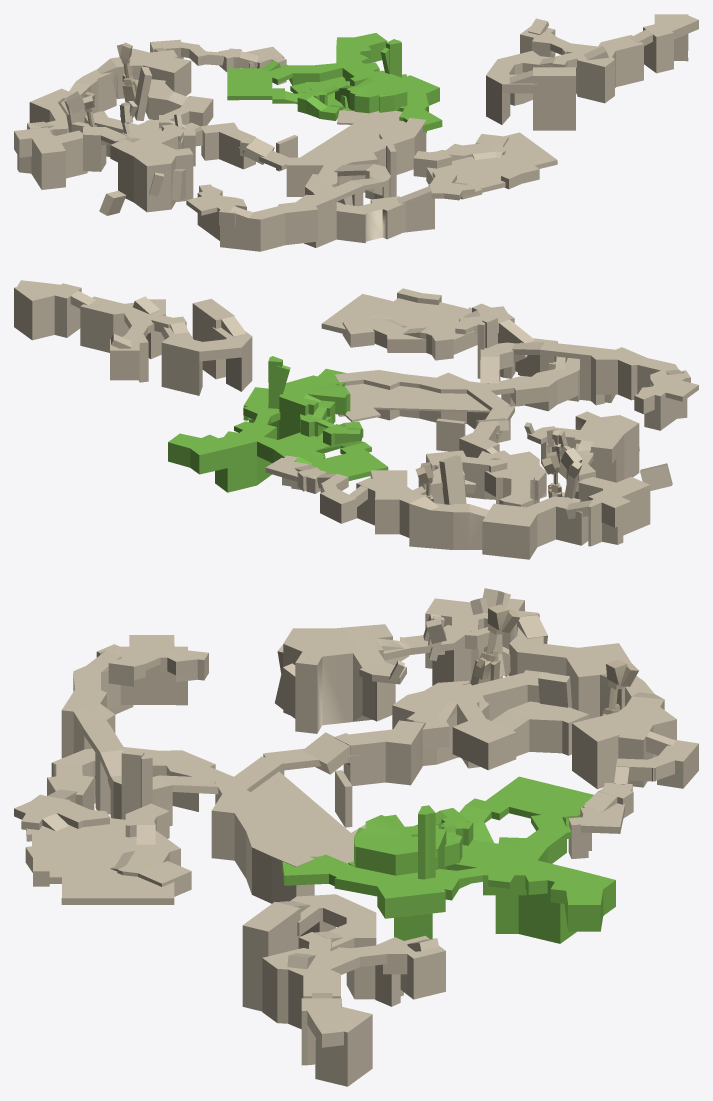
Rendered from FloorsButterflyAndEntrance.fbx.
3 renders of one model, top to bottom at view 1: azimuth 30°, elevation 25°; view 2: azimuth 150°, elevation 25°; view 3: azimuth 270°, elevation 25°, orthographic. The views are drawn at different scales.
Parts seen in each view (by area): view 1: Floor_Entrance, Floor_Butterfly, LinkerBulk, FloorFaroff, FarRise, Butter_Stalagnals, Floor_SideEntrance, LinkerRamps, EntranceRubble; view 2: Floor_Entrance, Floor_Butterfly, LinkerBulk, FloorFaroff, FarRise, Butter_Stalagnals, Floor_SideEntrance, LinkerRamps, EntranceRubble; view 3: Floor_Butterfly, Floor_Entrance, FloorFaroff, LinkerBulk, FarRise, Butter_Stalagnals, Floor_SideEntrance, EntranceRubble, LinkerRamps.
Boxes of the visible parts, x1,y1,x2,y2 form: Floor_Entrance: (186,110,557,251); Floor_Butterfly: (14,48,297,212); LinkerBulk: (486,14,698,130); FloorFaroff: (227,33,442,133); FarRise: (297,39,407,120); Butter_Stalagnals: (58,42,182,215); Floor_SideEntrance: (150,39,286,84); LinkerRamps: (509,18,652,83); EntranceRubble: (337,144,396,205); Floor_Entrance: (321,288,698,442); Floor_Butterfly: (356,406,650,559); LinkerBulk: (14,280,252,395); FloorFaroff: (168,368,388,492); FarRise: (268,356,363,445); Butter_Stalagnals: (413,422,672,505); Floor_SideEntrance: (265,455,367,523); LinkerRamps: (70,290,246,348); EntranceRubble: (477,316,567,378); Floor_Butterfly: (263,598,676,827); Floor_Entrance: (14,635,365,904); FloorFaroff: (282,776,615,943); LinkerBulk: (242,894,445,1086); FarRise: (348,805,473,879); Butter_Stalagnals: (389,588,638,715); Floor_SideEntrance: (568,731,698,858); EntranceRubble: (95,749,152,819); LinkerRamps: (276,901,438,998).
Size of the model in its own units: 14301 by 9145 by 2058.
